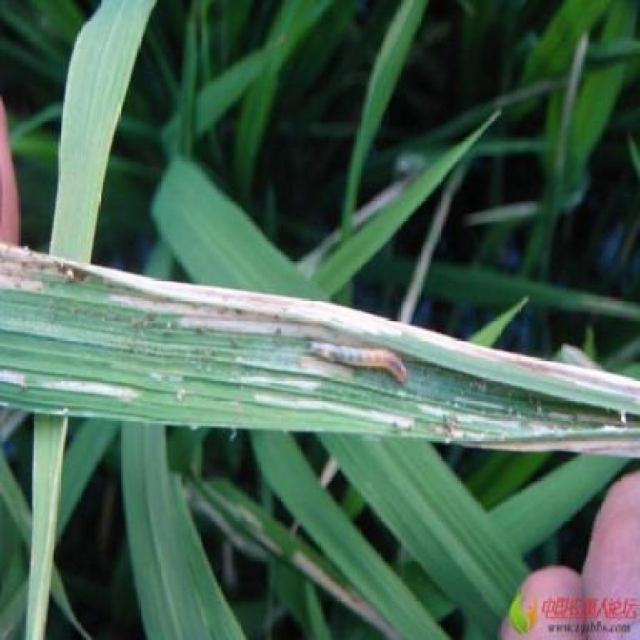leaf-folder: (296, 305, 433, 417)
